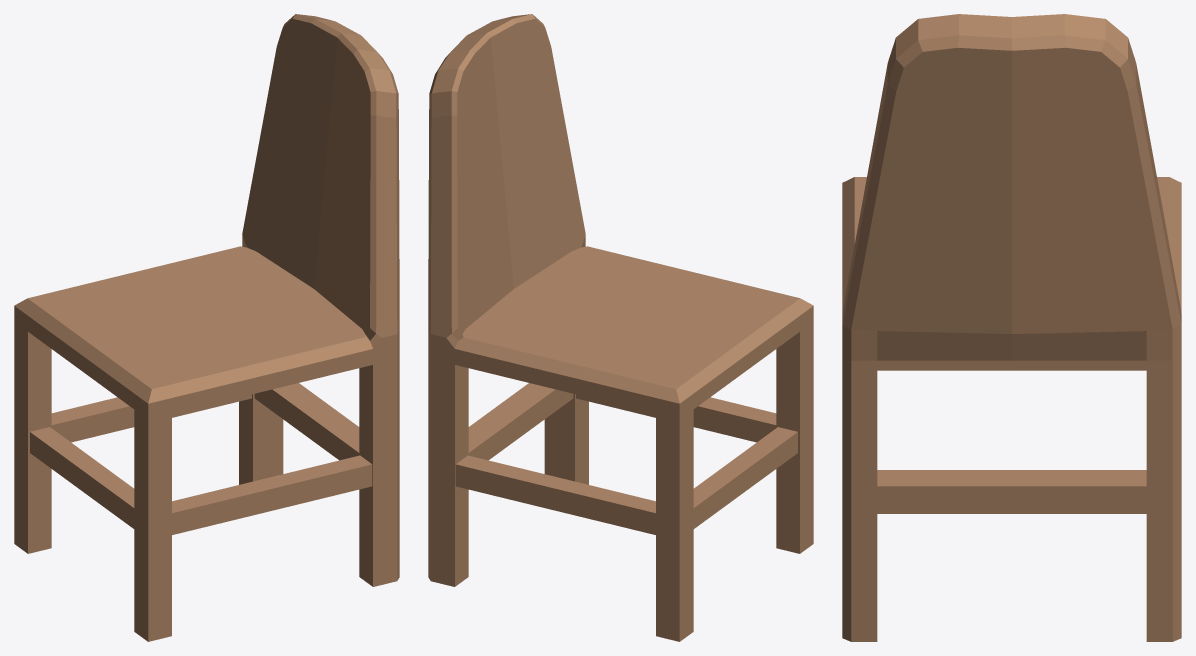
File: cadeira.fbx
The picture shows the model from 3 angles, left to right: view 1: azimuth 30°, elevation 25°; view 2: azimuth 150°, elevation 25°; view 3: azimuth 270°, elevation 25°; orthographic projection. The views are drawn at different scales.
Parts seen in each view (by area): view 1: cadeira normal; view 2: cadeira normal; view 3: cadeira normal.
Part boxes in pixels (x1,y1,x2,y2): cadeira normal: (14,14,399,641); cadeira normal: (428,14,813,641); cadeira normal: (842,14,1181,641).
Size of the model in its own units: 60.75 by 101 by 49.43.
